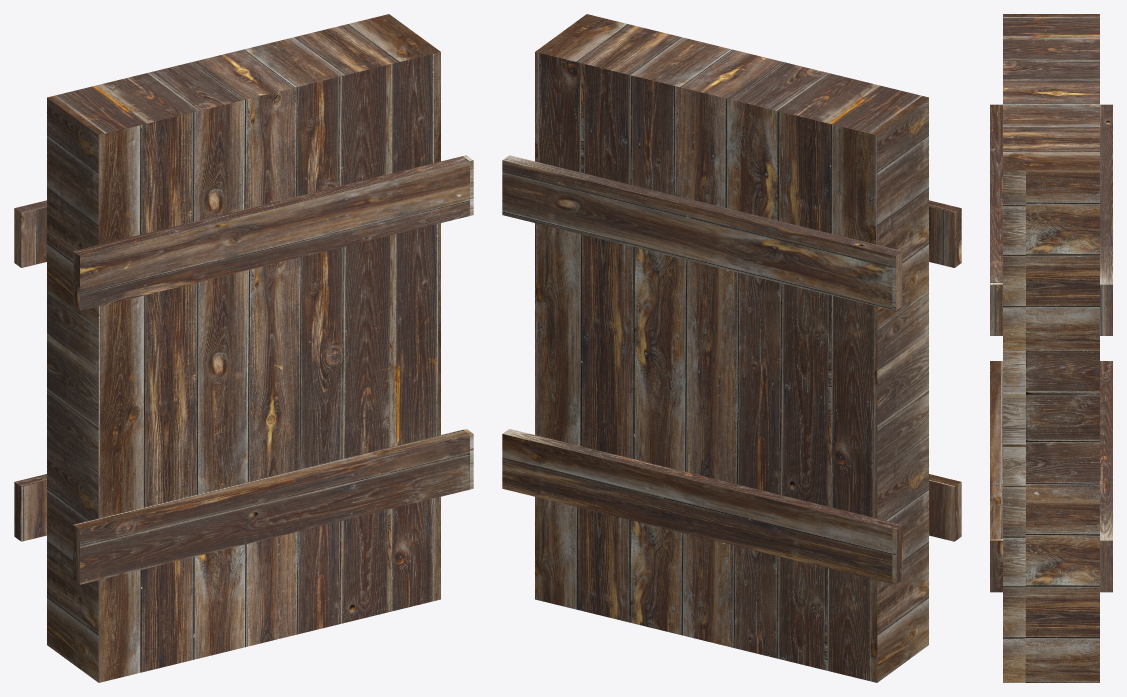
The model's file is PuertaMader.fbx.
3 renders of one model, left to right at view 1: azimuth 30°, elevation 25°; view 2: azimuth 150°, elevation 25°; view 3: azimuth 270°, elevation 25°, orthographic. The views are drawn at different scales.
Parts seen in each view (by area): view 1: Cubo.003; view 2: Cubo.003; view 3: Cubo.003.
Boxes of the visible parts, x1,y1,x2,y2 form: Cubo.003: (14, 14, 473, 682); Cubo.003: (502, 14, 961, 682); Cubo.003: (990, 14, 1112, 682).
Bounding box in the file's own units: 453 × 131 × 603.
